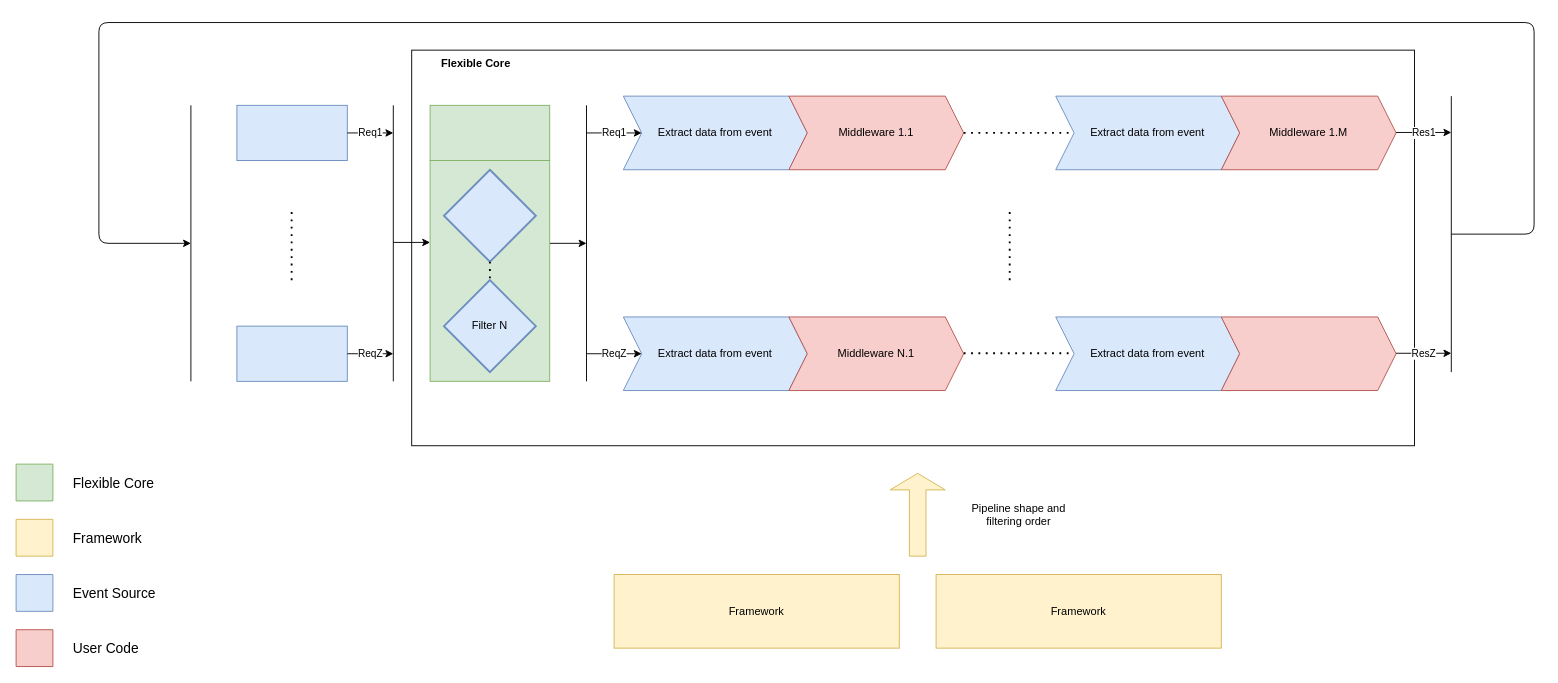
This 1558x683 diagram has some shape labels left out. The shapes that lost their labels are listed below. From the top down, each one's centre as x and y in pixels, then its label:
the point at 291,132: Event Source A
the point at 489,132: Router
the point at 489,215: Filter 1
the point at 291,353: Event Source Z
the point at 1308,353: Middleware N.M
